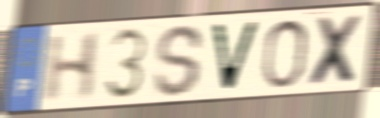3: (101, 25, 149, 103)
H: (41, 29, 104, 106)
O: (259, 16, 311, 91)
S: (152, 22, 207, 100)
V: (209, 19, 263, 95)
X: (306, 12, 367, 88)
